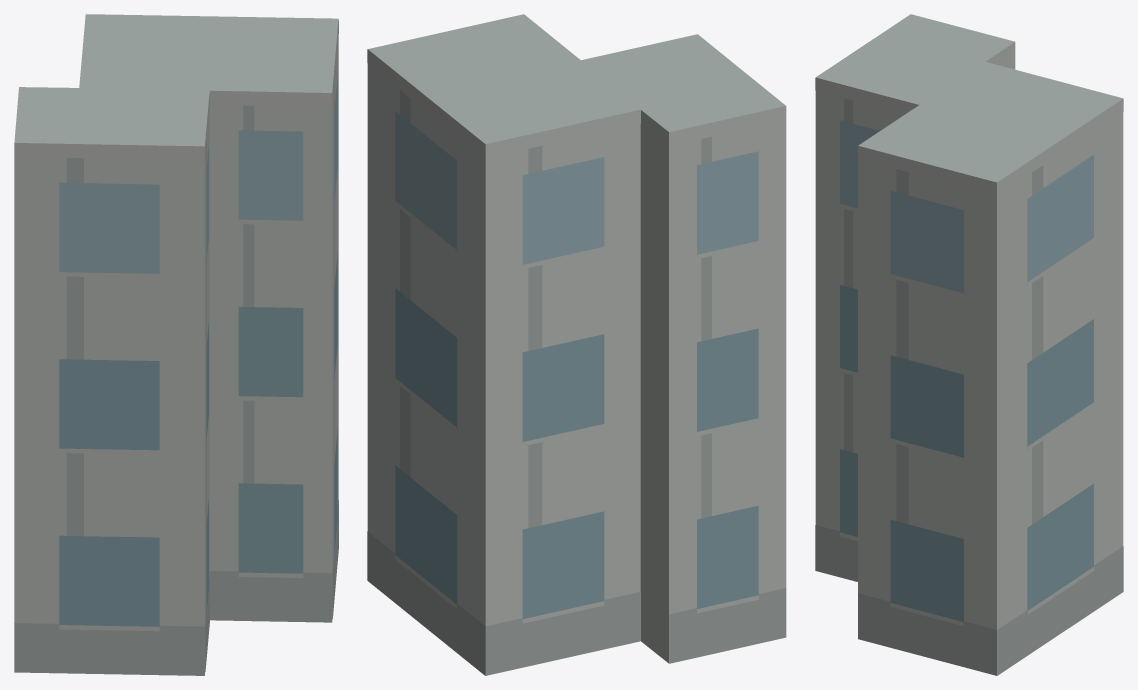
Rendered from survey-upis-32821697.glb.
3 views of the same model, side by side, from view 1: azimuth 30°, elevation 25°; view 2: azimuth 150°, elevation 25°; view 3: azimuth 270°, elevation 25° (orthographic). The views are drawn at different scales.
Parts seen in each view (by area): view 1: survey-upis-32821697.tmp; view 2: survey-upis-32821697.tmp; view 3: survey-upis-32821697.tmp.
Part boxes in pixels (left/top/right/bottom): survey-upis-32821697.tmp: left=14, top=14, right=338, bottom=675; survey-upis-32821697.tmp: left=367, top=14, right=786, bottom=675; survey-upis-32821697.tmp: left=815, top=14, right=1123, bottom=675.
Bounding box in the file's own units: 6.71 × 9.15 × 5.19.
